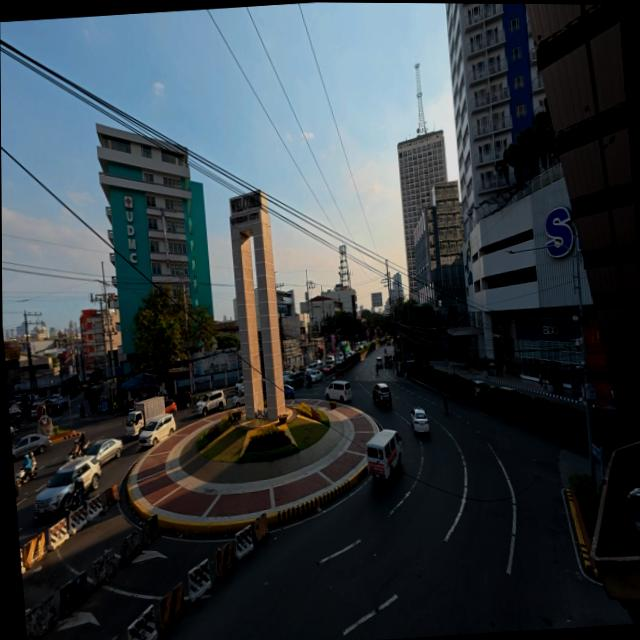car: (35, 456, 102, 516), (139, 414, 176, 446), (12, 434, 51, 461), (87, 438, 122, 464), (196, 391, 226, 416), (411, 407, 429, 432), (373, 383, 391, 407), (174, 391, 193, 409), (284, 371, 304, 387), (474, 379, 490, 397), (232, 388, 245, 408), (31, 402, 46, 418), (308, 369, 322, 382), (500, 386, 522, 394), (165, 399, 177, 413), (284, 384, 295, 399), (306, 362, 317, 373), (323, 363, 335, 373), (236, 376, 243, 392), (283, 371, 292, 382), (49, 394, 61, 402), (236, 381, 244, 393), (69, 390, 79, 398), (10, 425, 16, 438), (376, 358, 383, 368)
motorcycle: (65, 489, 88, 513), (16, 467, 37, 487), (77, 434, 90, 450), (306, 378, 312, 388), (80, 407, 85, 419)
trucks: (126, 396, 165, 437)
vans: (367, 430, 402, 479), (325, 380, 352, 401)
